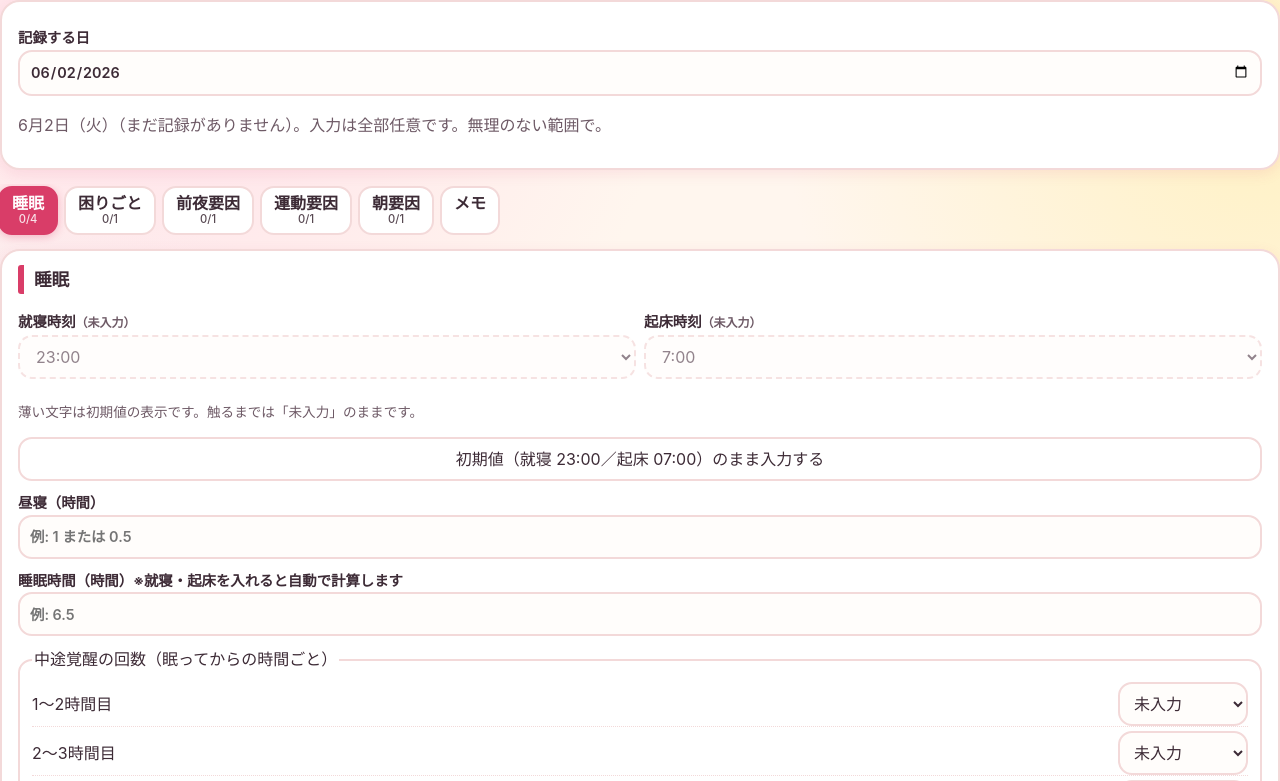
Scenario: 量の入力（お酒=杯を選ぶ、運動=回数） › 「実施しなかった」に変えると、量は保存されない
Click the tab "運動要因 0/1".
click(306, 210)  # box [260,186,352,234]
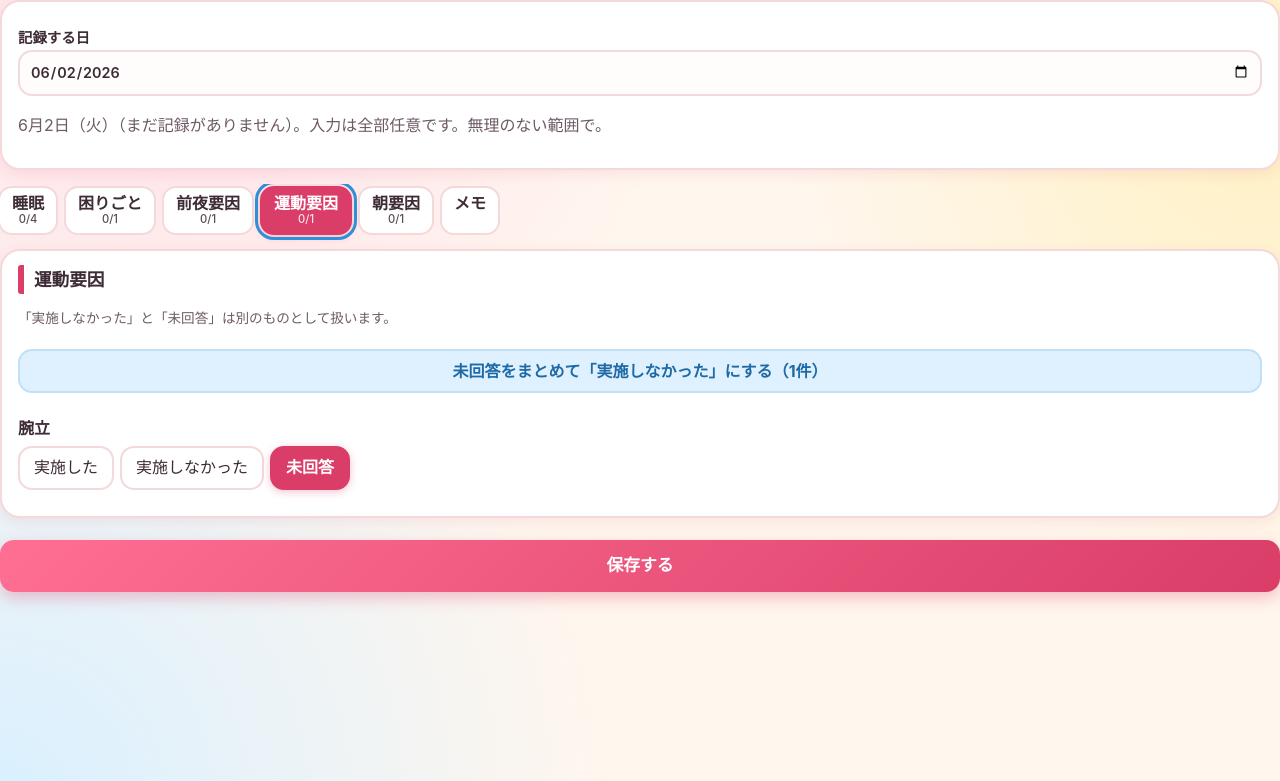
Click the radio button labelled "実施した".
click(66, 468)  # box [18,446,114,490]
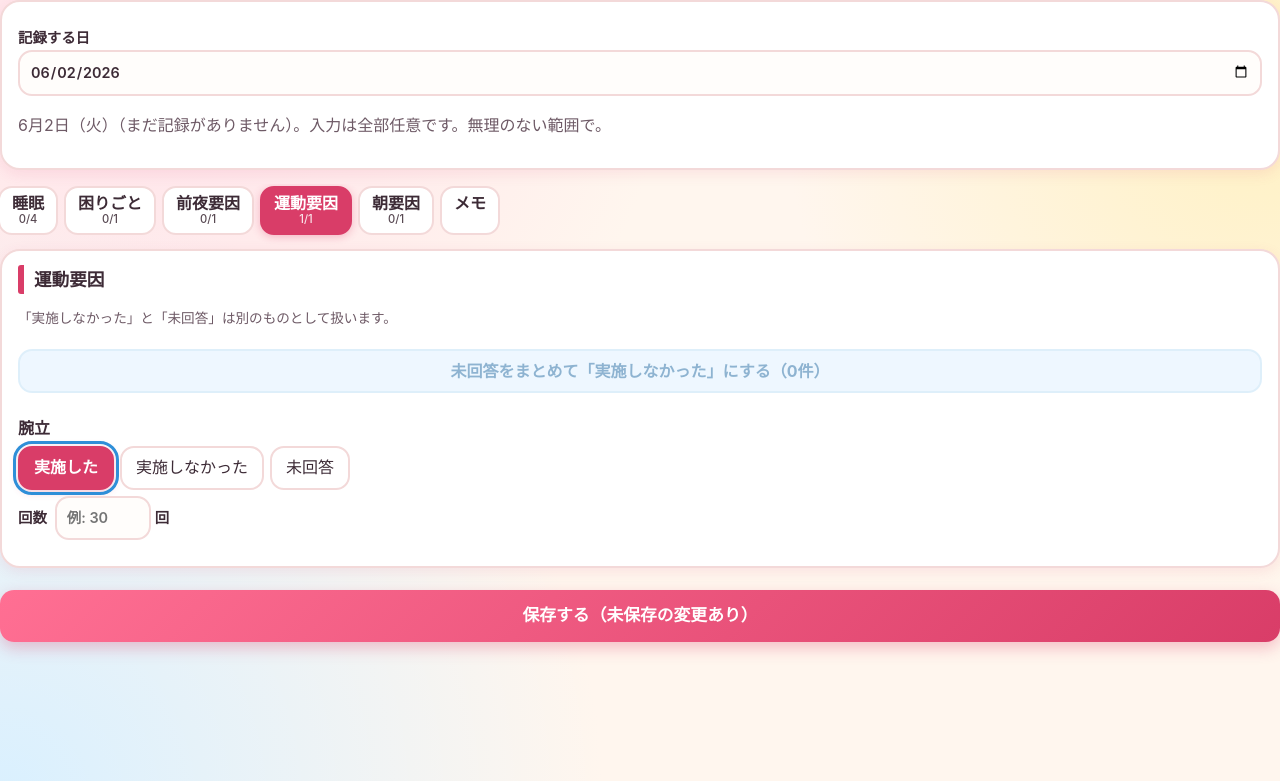
Type "20" into the field named "腕立の回数".
click(103, 518); type("20")  # box [55,496,151,540]
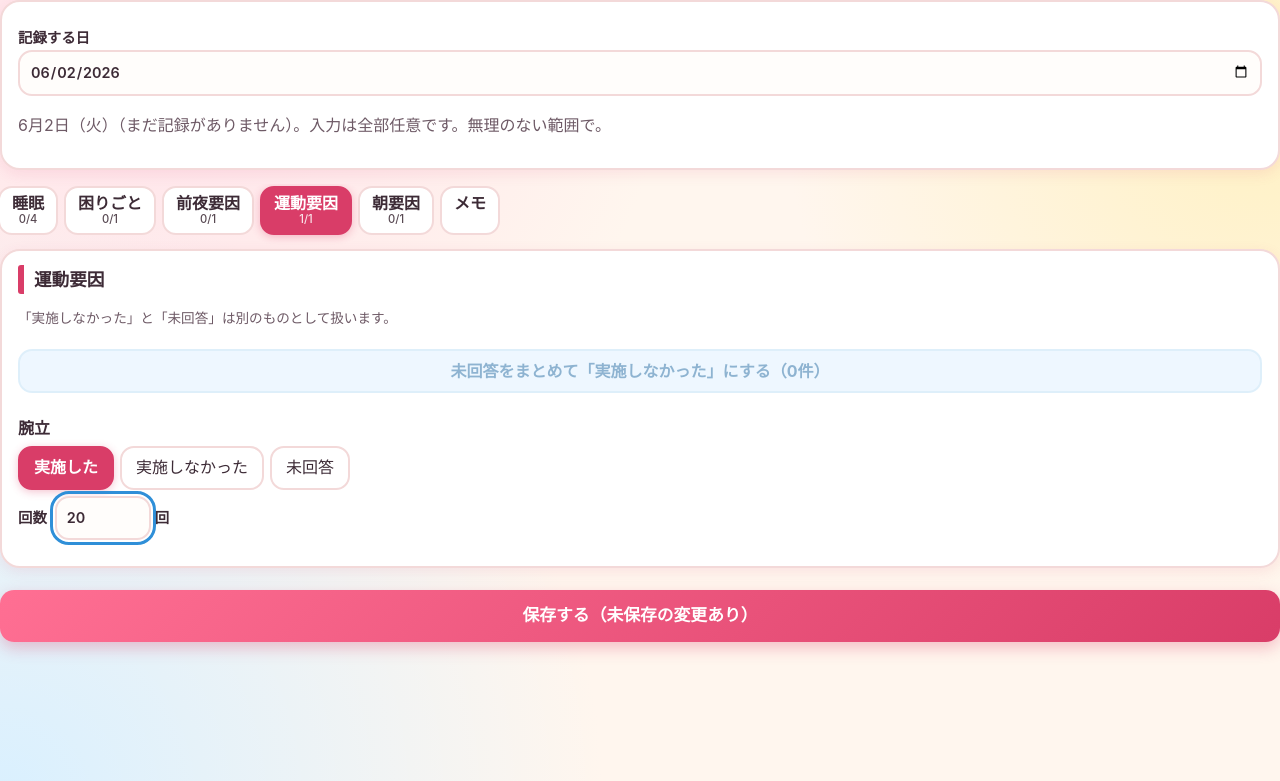
Click the radio button labelled "実施しなかった".
click(192, 468)  # box [120,446,264,490]
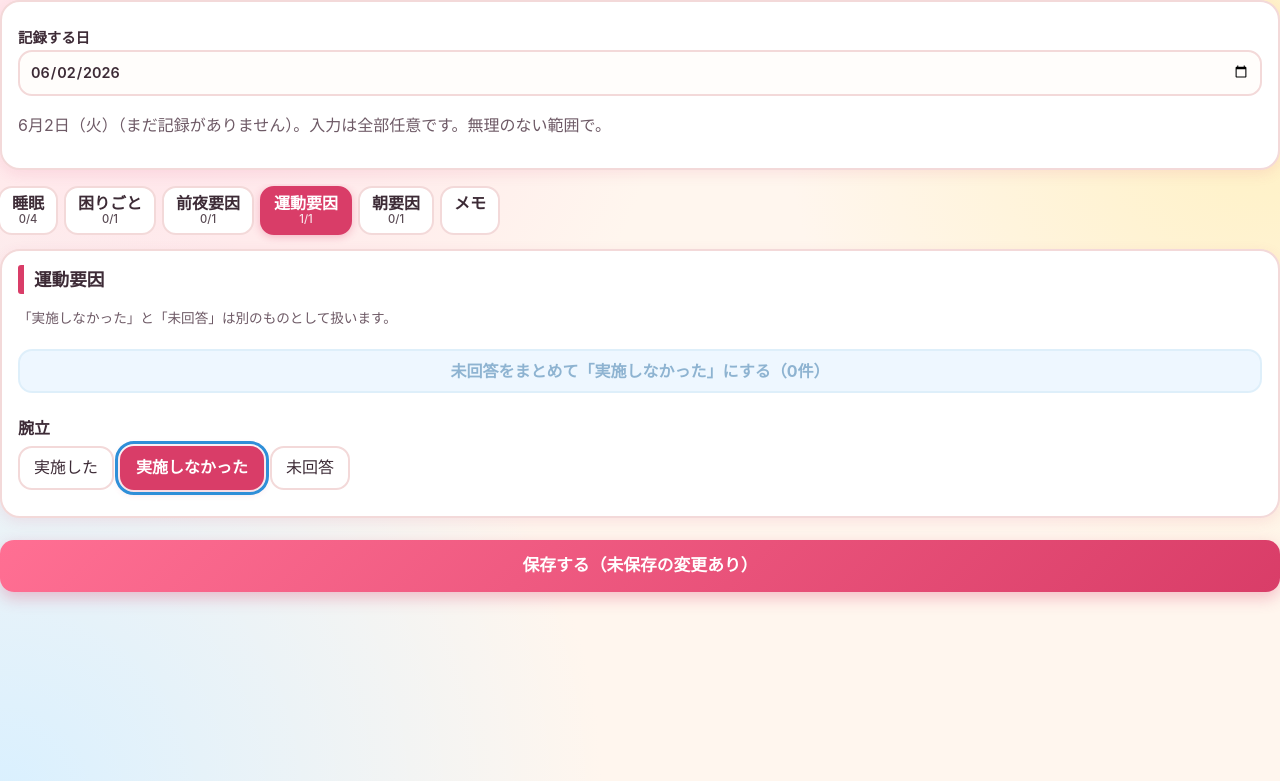
Click the button "保存する（未保存の変更あり）".
click(640, 566)  # box [0,540,1279,592]
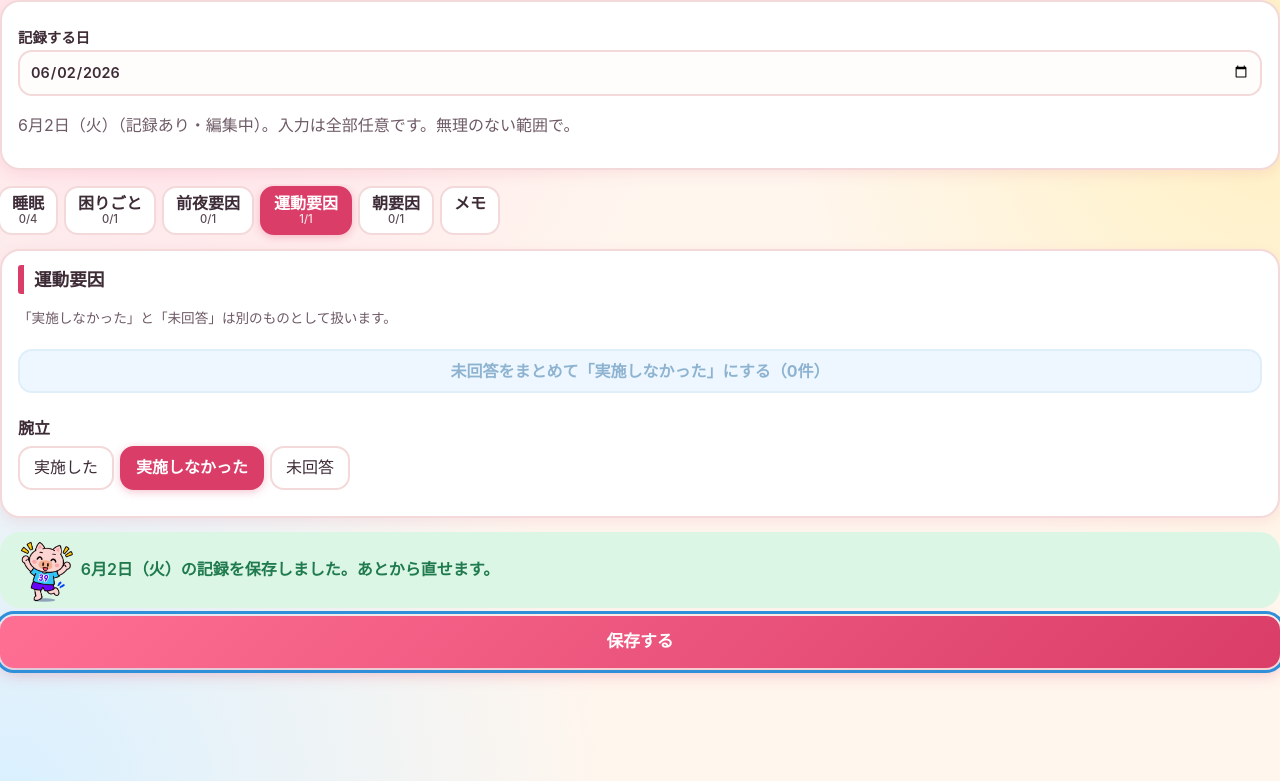
expect the text "6月2日（火）の記録を保存しました。あとから直せます。" is shown: met, box [81,556,499,583]
